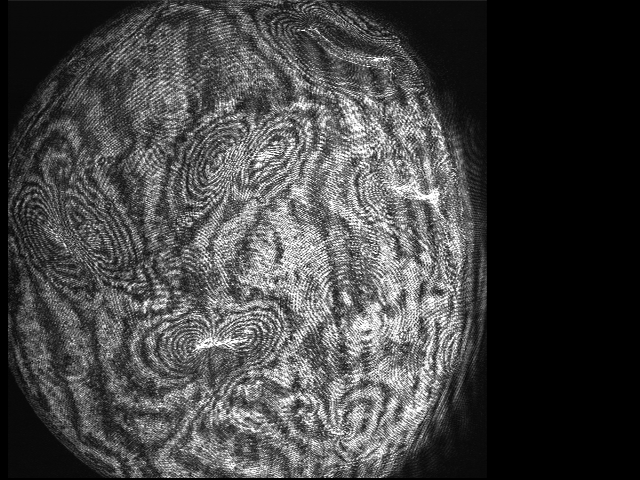plume: (179, 118, 306, 201), (17, 194, 139, 280), (146, 312, 286, 382)
